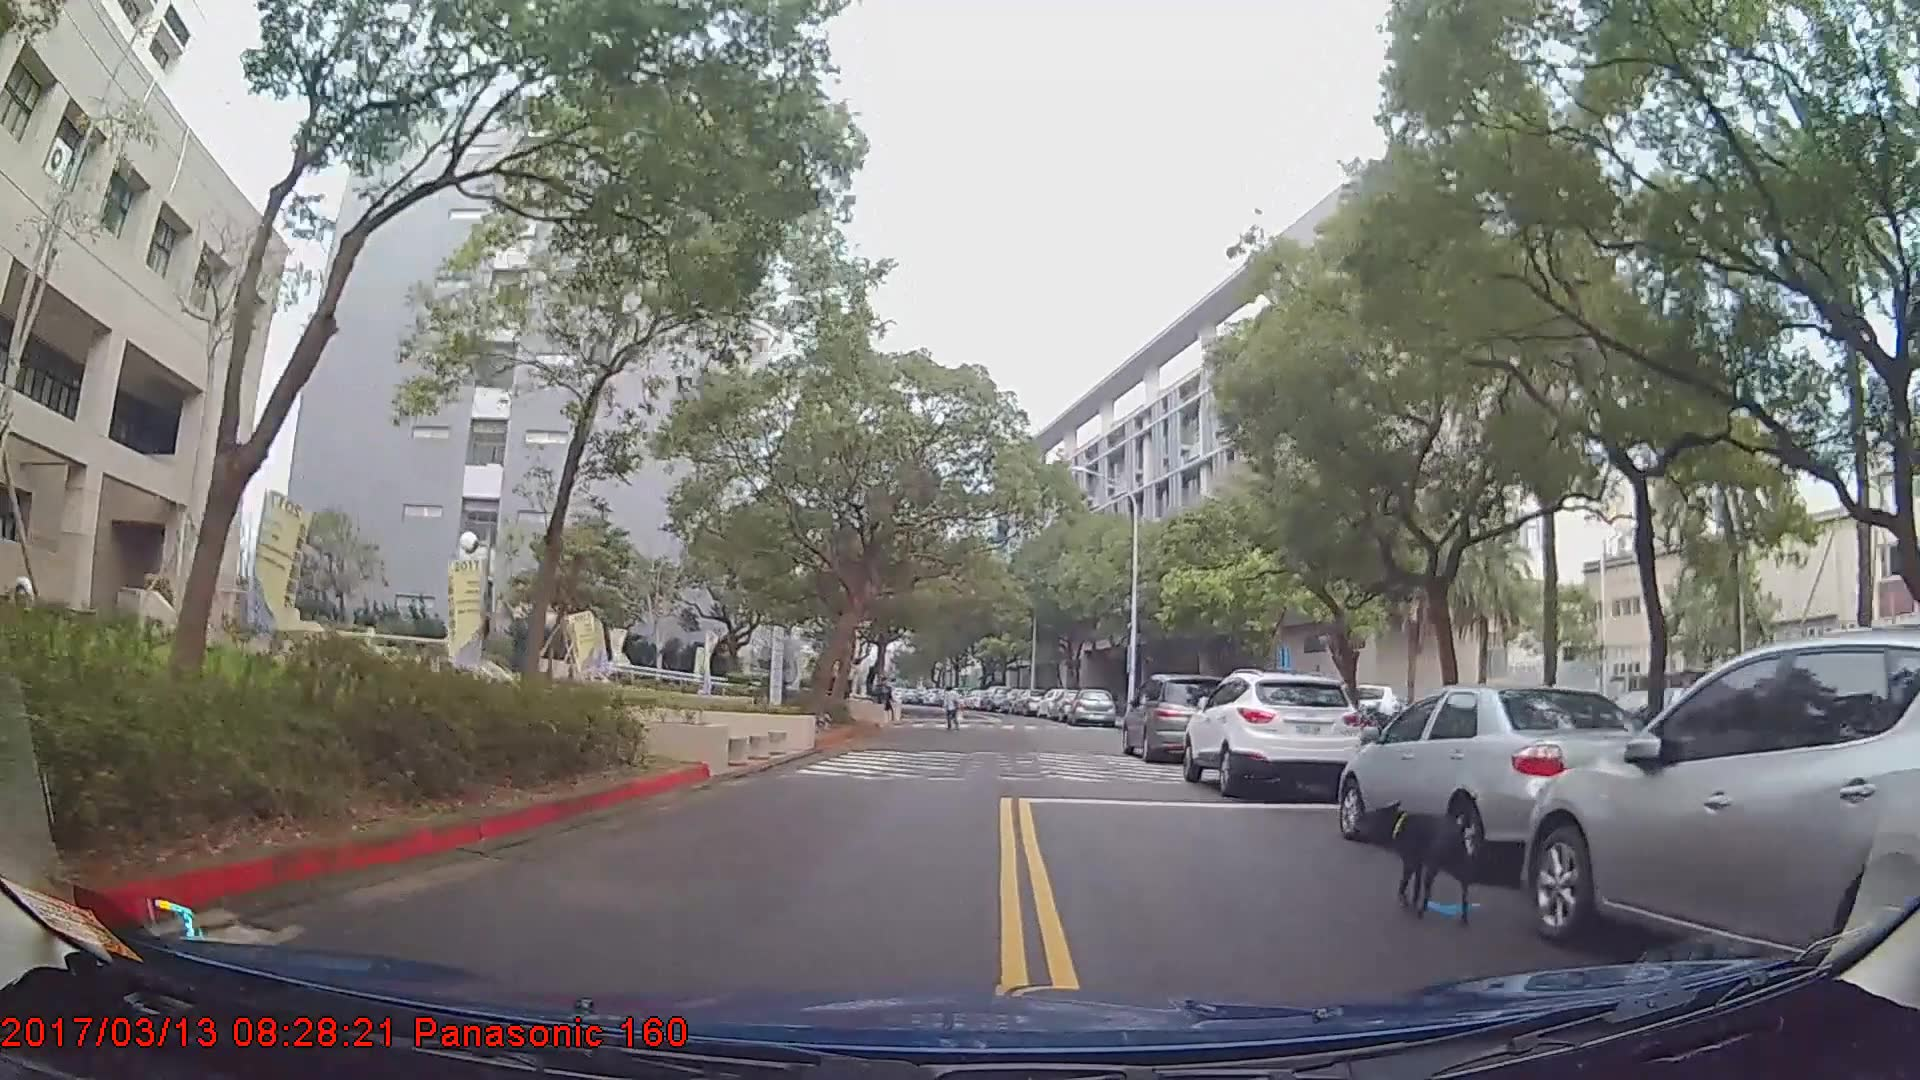pedestrian: (939, 685, 964, 733)
vehicle: (1523, 630, 1919, 992), (1341, 681, 1675, 874), (1180, 667, 1364, 798), (1119, 671, 1241, 759), (1067, 684, 1115, 727), (979, 684, 1010, 712)
